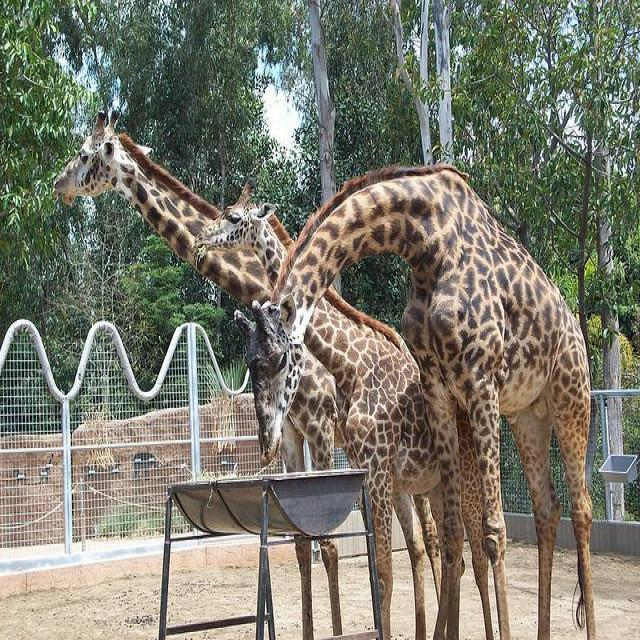giraffe: (48, 106, 442, 640), (233, 162, 600, 640), (193, 176, 494, 640)
